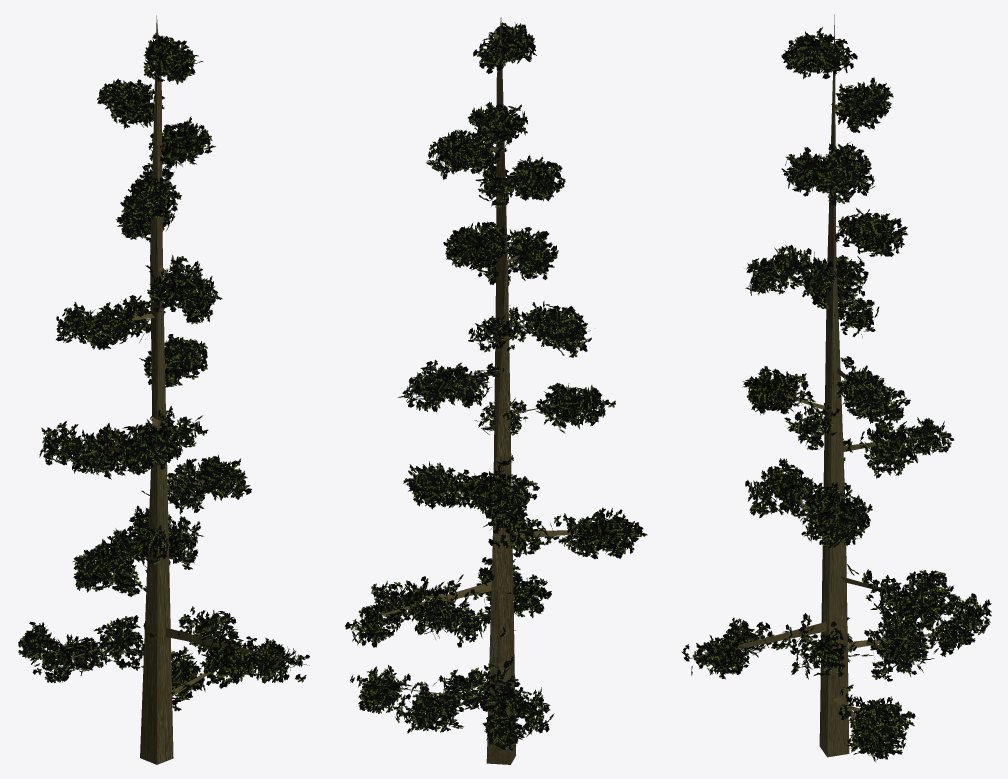
The model's file is spruce_conifer_v03_LOD1.fbx.
3 views of the same model, side by side, from view 1: azimuth 30°, elevation 25°; view 2: azimuth 150°, elevation 25°; view 3: azimuth 270°, elevation 25° (orthographic).
Parts seen in each view (by area): view 1: spruce_conifer_v03_LOD1; view 2: spruce_conifer_v03_LOD1; view 3: spruce_conifer_v03_LOD1.
Part boxes in pixels (x1,y1,x2,y2): spruce_conifer_v03_LOD1: [18, 15, 309, 764]; spruce_conifer_v03_LOD1: [345, 17, 647, 764]; spruce_conifer_v03_LOD1: [681, 14, 991, 762].
Bounding box in the file's own units: 1088 × 1237 × 3197.
2 materials, 2 textured.
